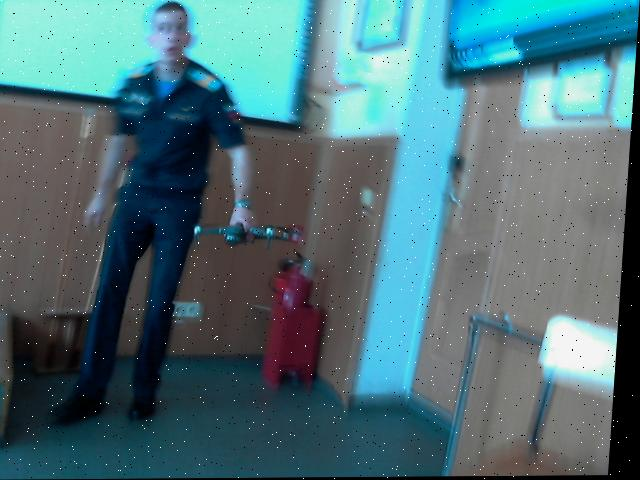drone: (184, 209, 330, 256)
